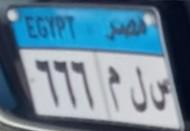6: (57, 56, 75, 106), (77, 55, 93, 109), (40, 55, 55, 106)
س: (152, 79, 179, 118)
ل: (130, 66, 147, 115)
م: (106, 64, 126, 113)
